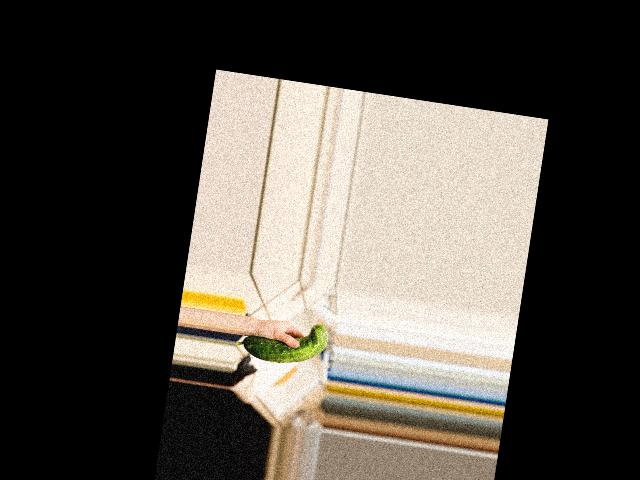cucumber: (234, 312, 329, 370)
